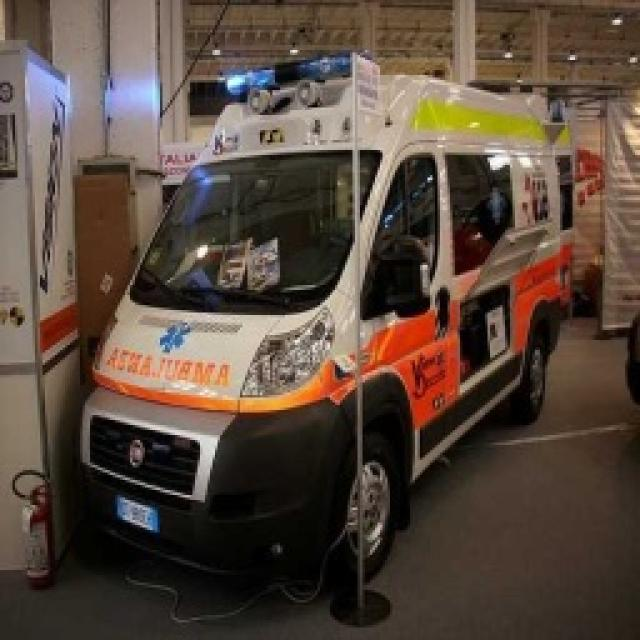emergency-vehicle: (87, 43, 568, 621)
